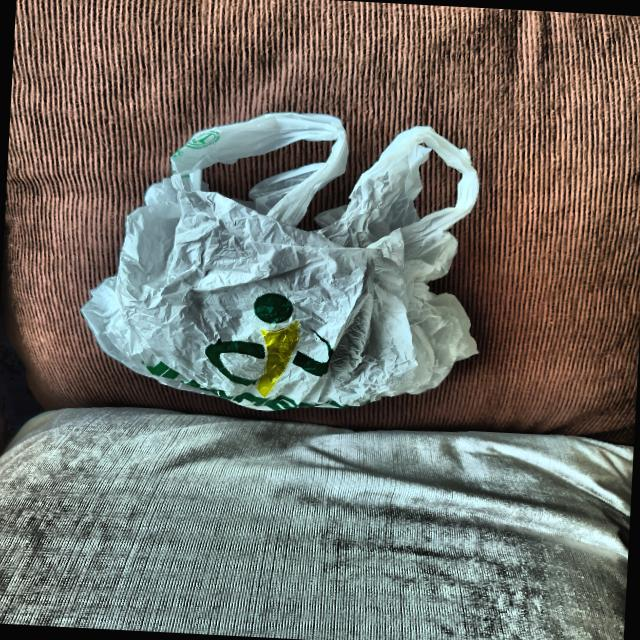plastic bag: (83, 105, 494, 425)
